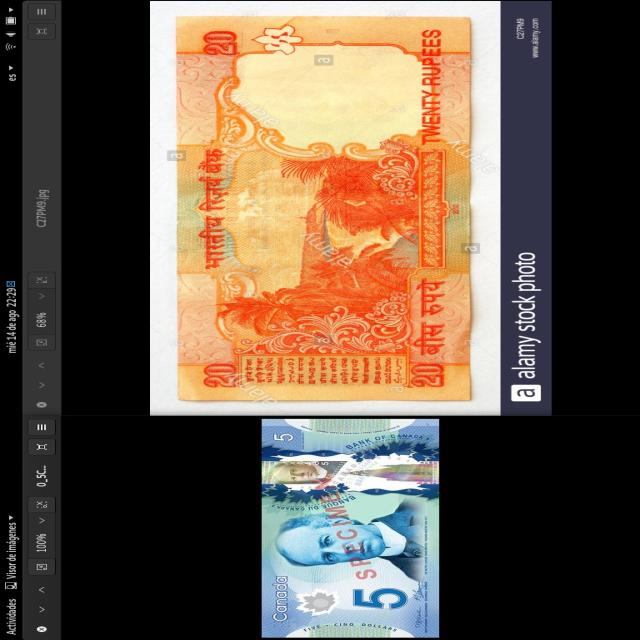20IndianRupees: (181, 15, 478, 402)
